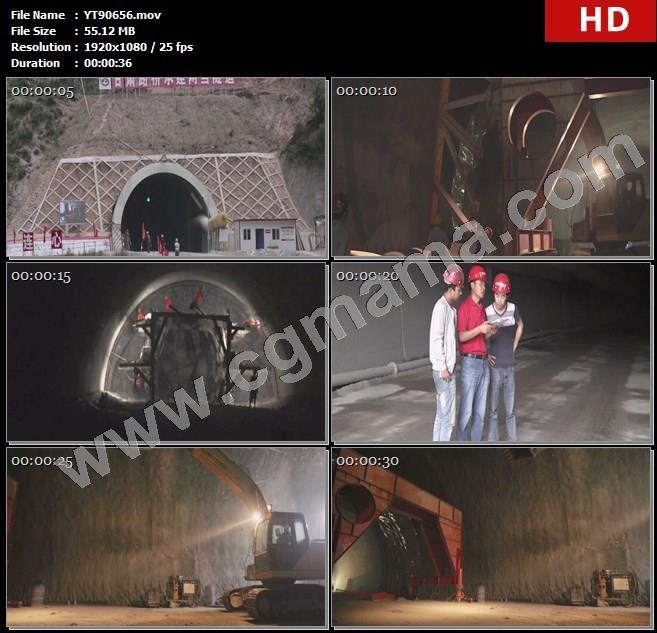helmet: (443, 266, 466, 291), (491, 274, 513, 296), (467, 266, 488, 285)
